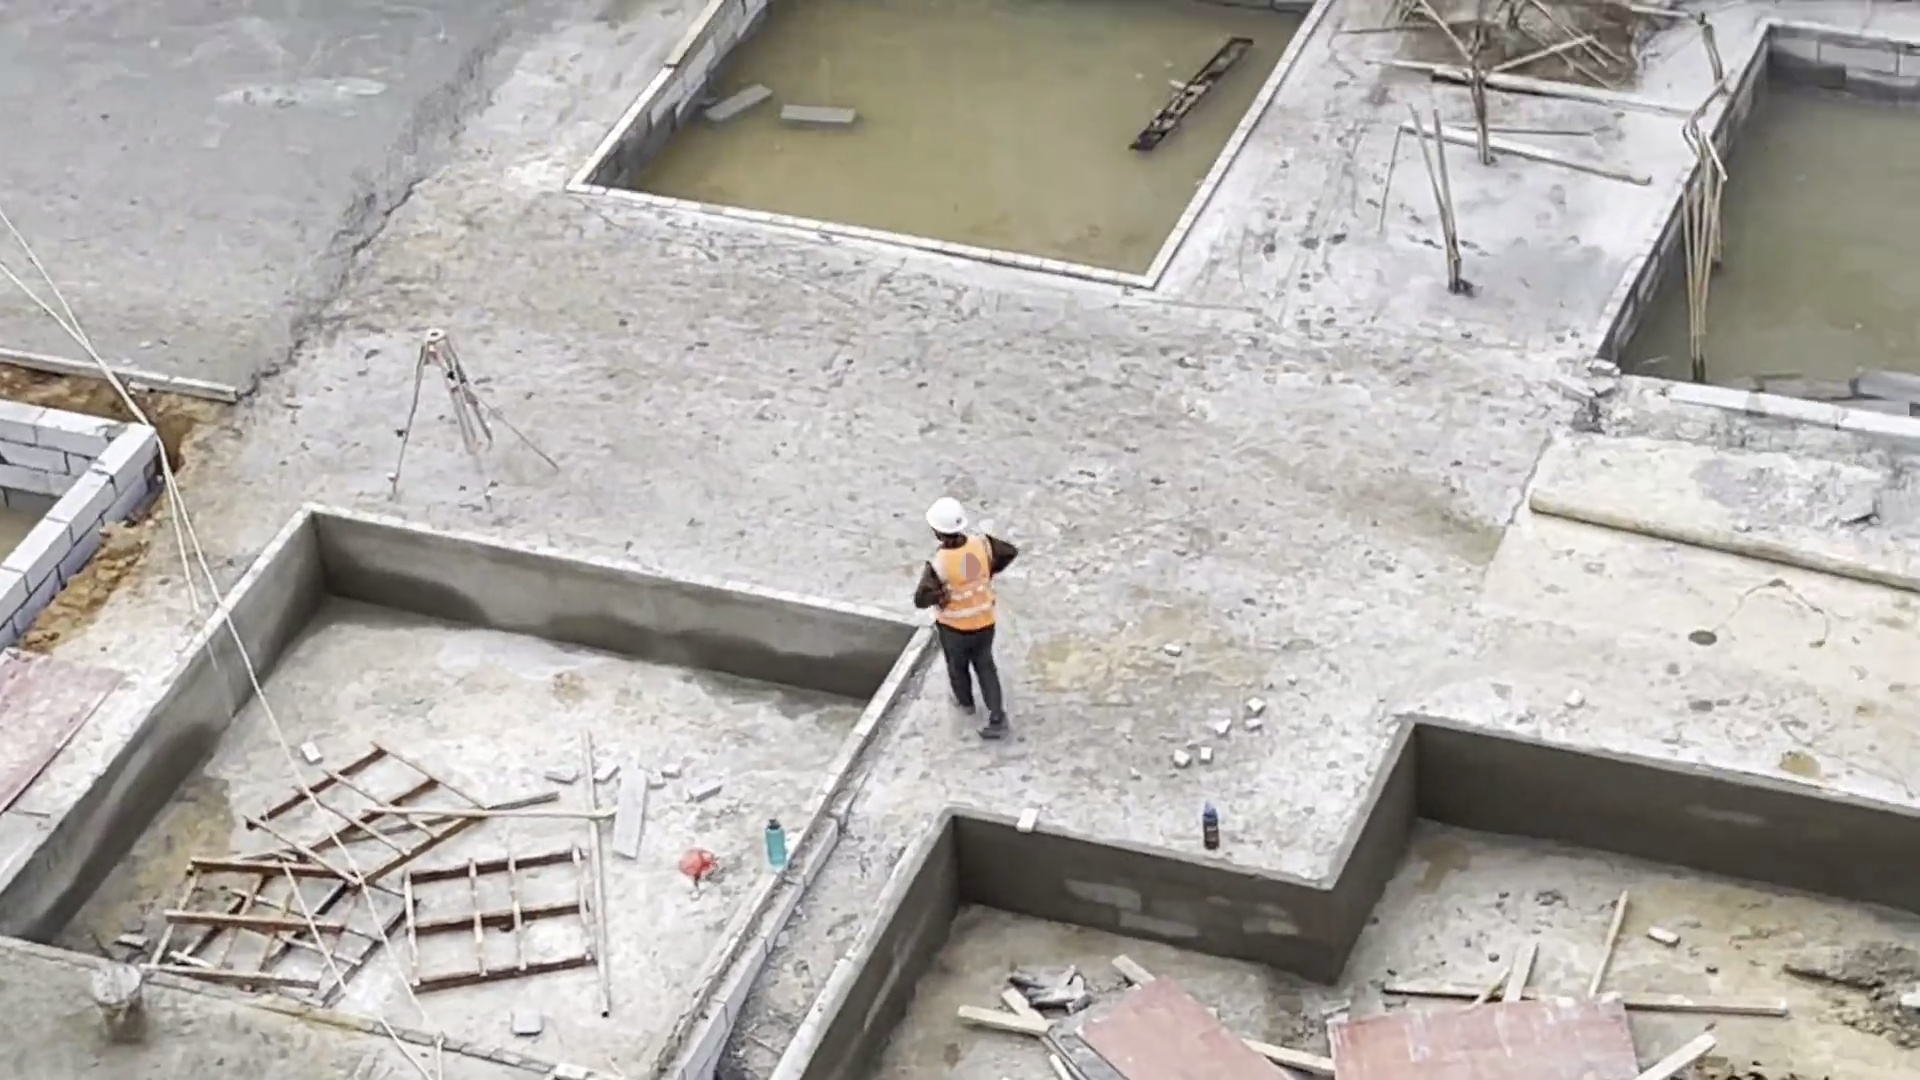helmet: (927, 499, 969, 532)
person: (909, 499, 1028, 745)
vest: (934, 540, 997, 634)
